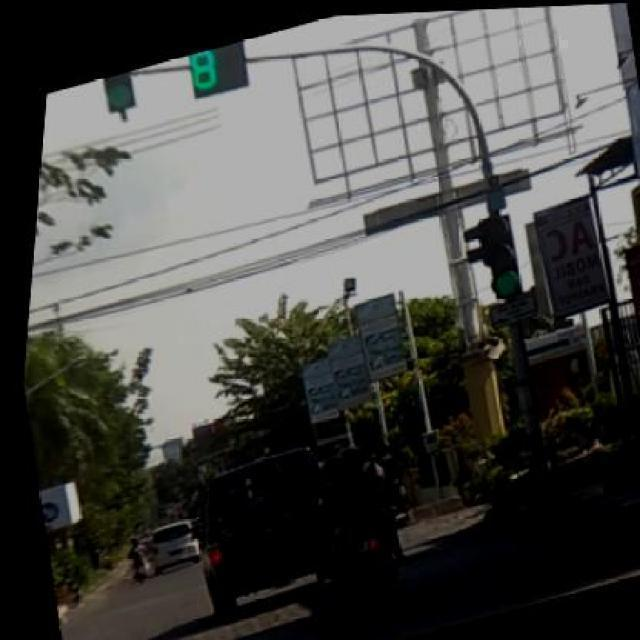green_light: (462, 212, 519, 296), (102, 72, 133, 119)
